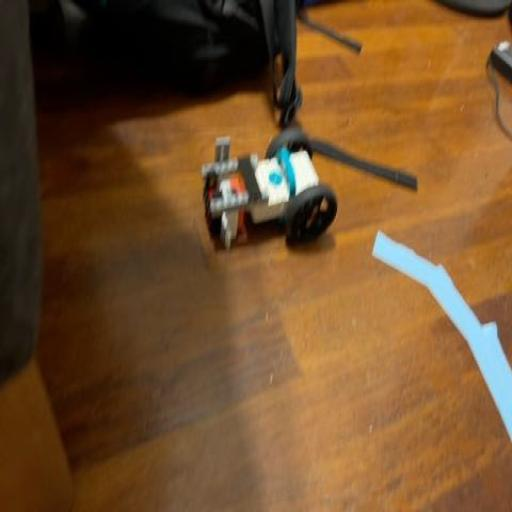Opponent: (202, 124, 339, 262)
